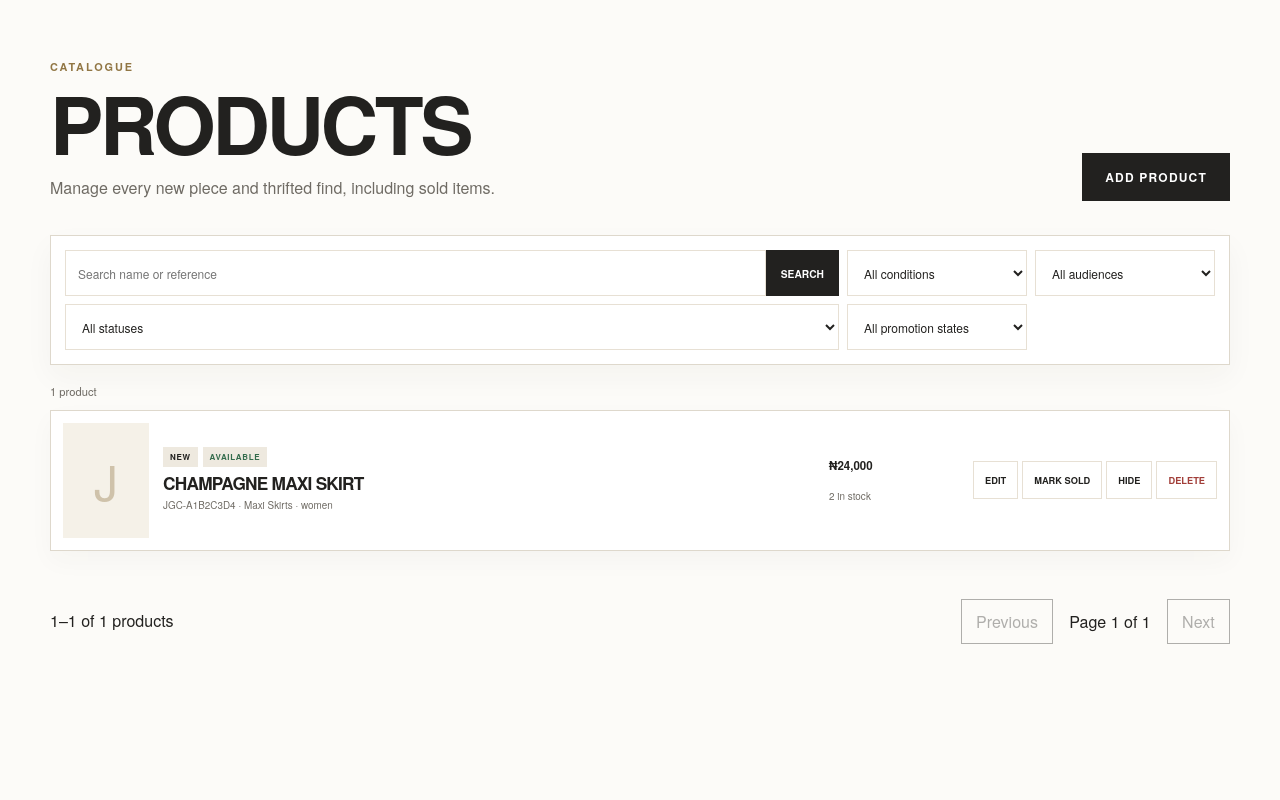
Test: requires the exact reference before deleting a product
Click the button with aria-label "delete champagne maxi skirt". click: (1187, 480)
box: [1156,461,1217,499]
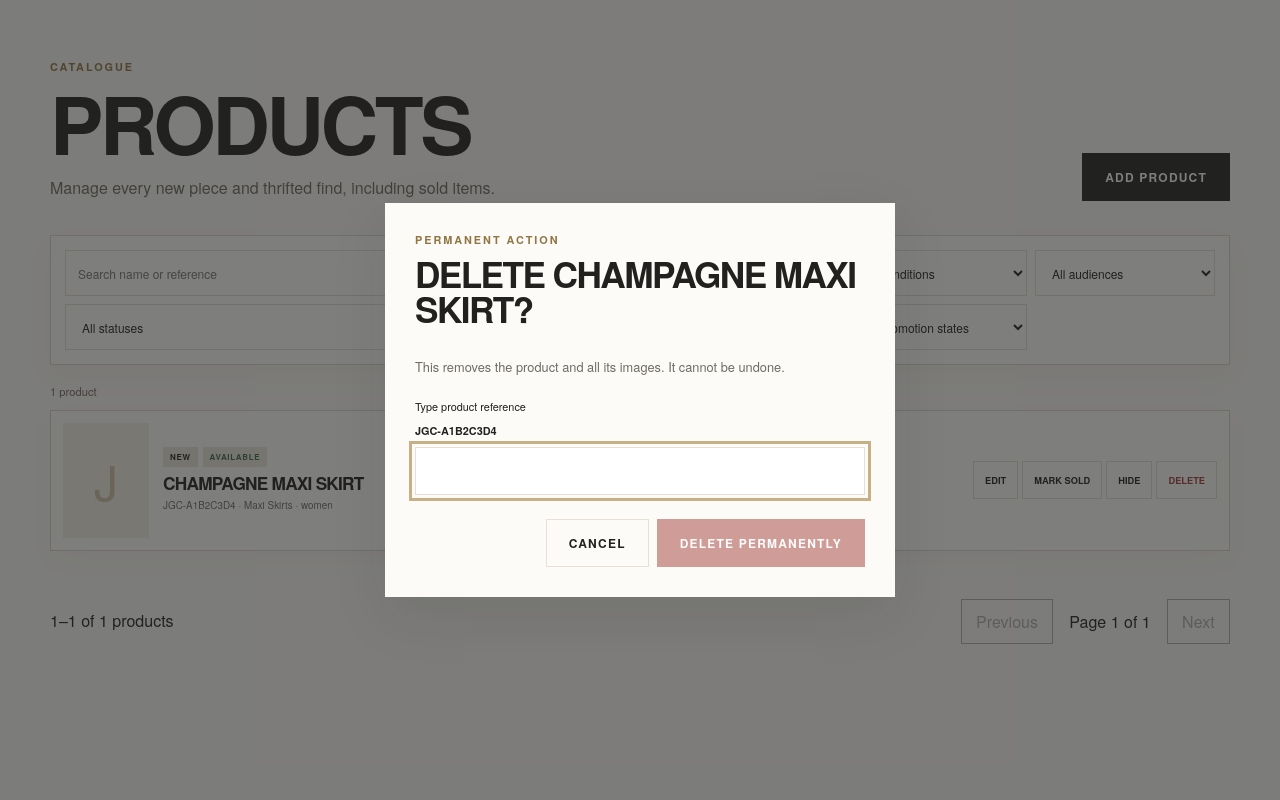
expect the button "Delete permanently" is disabled: met, box [657,519,865,567]
Type "JGC-A1B2C3D4" into the field labelled "Type product reference JGC-A1B2C3D4". click: (640, 471)
box: [415,447,865,495]
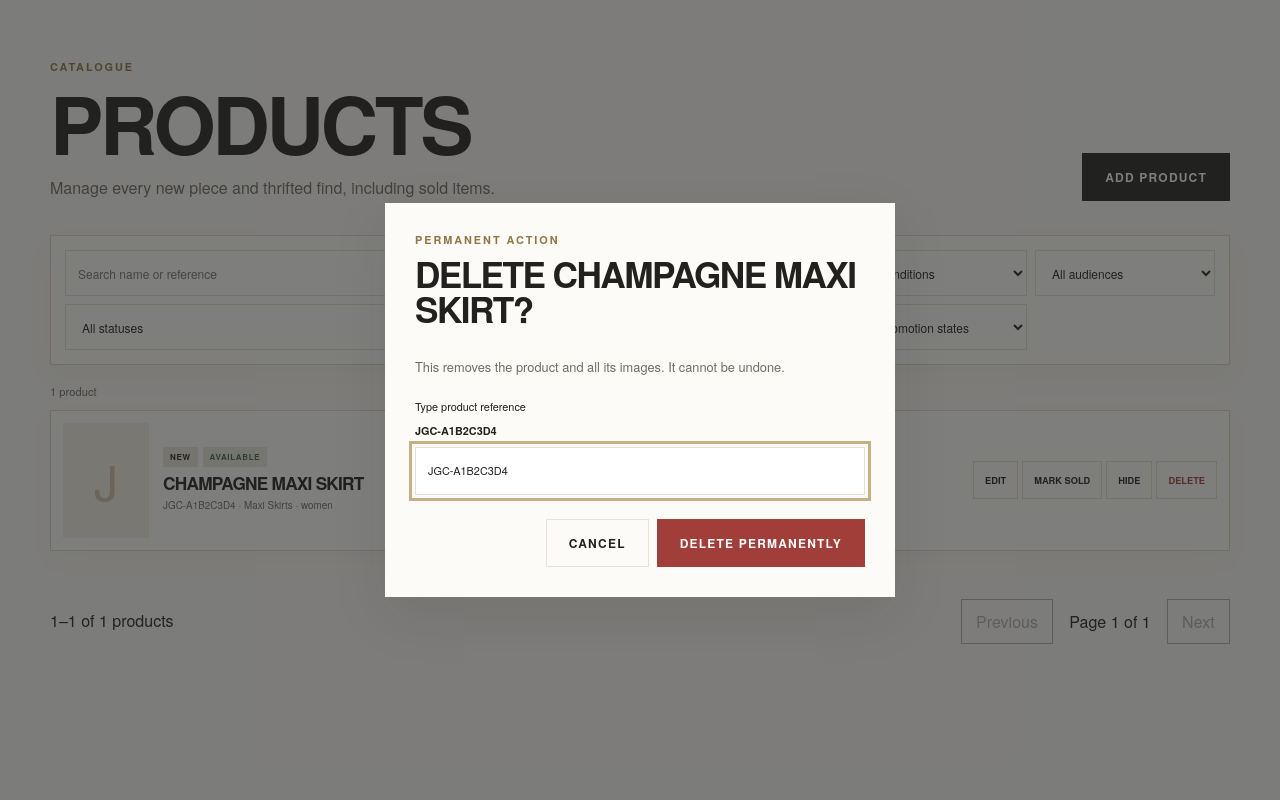
expect the button "Delete permanently" is enabled: met, box [657,519,865,567]
